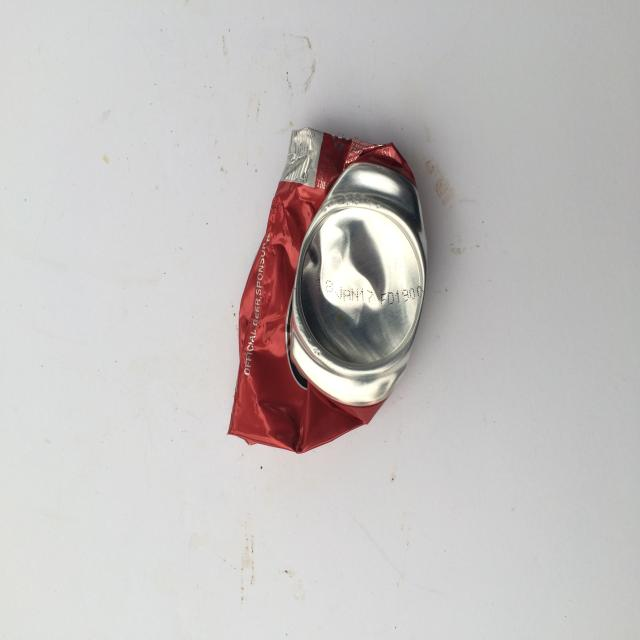metal: (285, 159, 428, 408)
